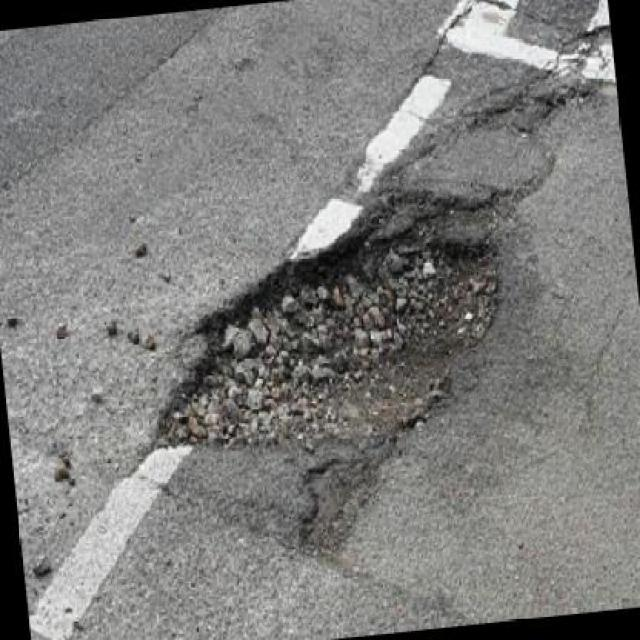pothole: (129, 190, 520, 472), (290, 452, 378, 568), (470, 70, 599, 142)
